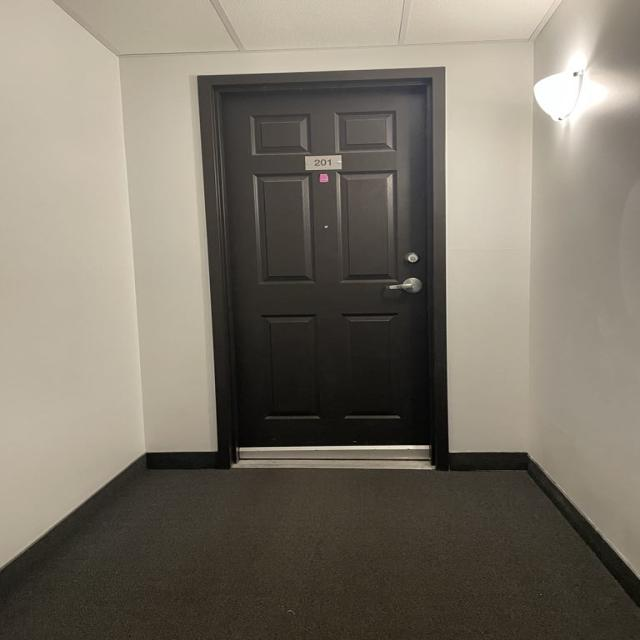door-handle: (386, 278, 423, 294)
